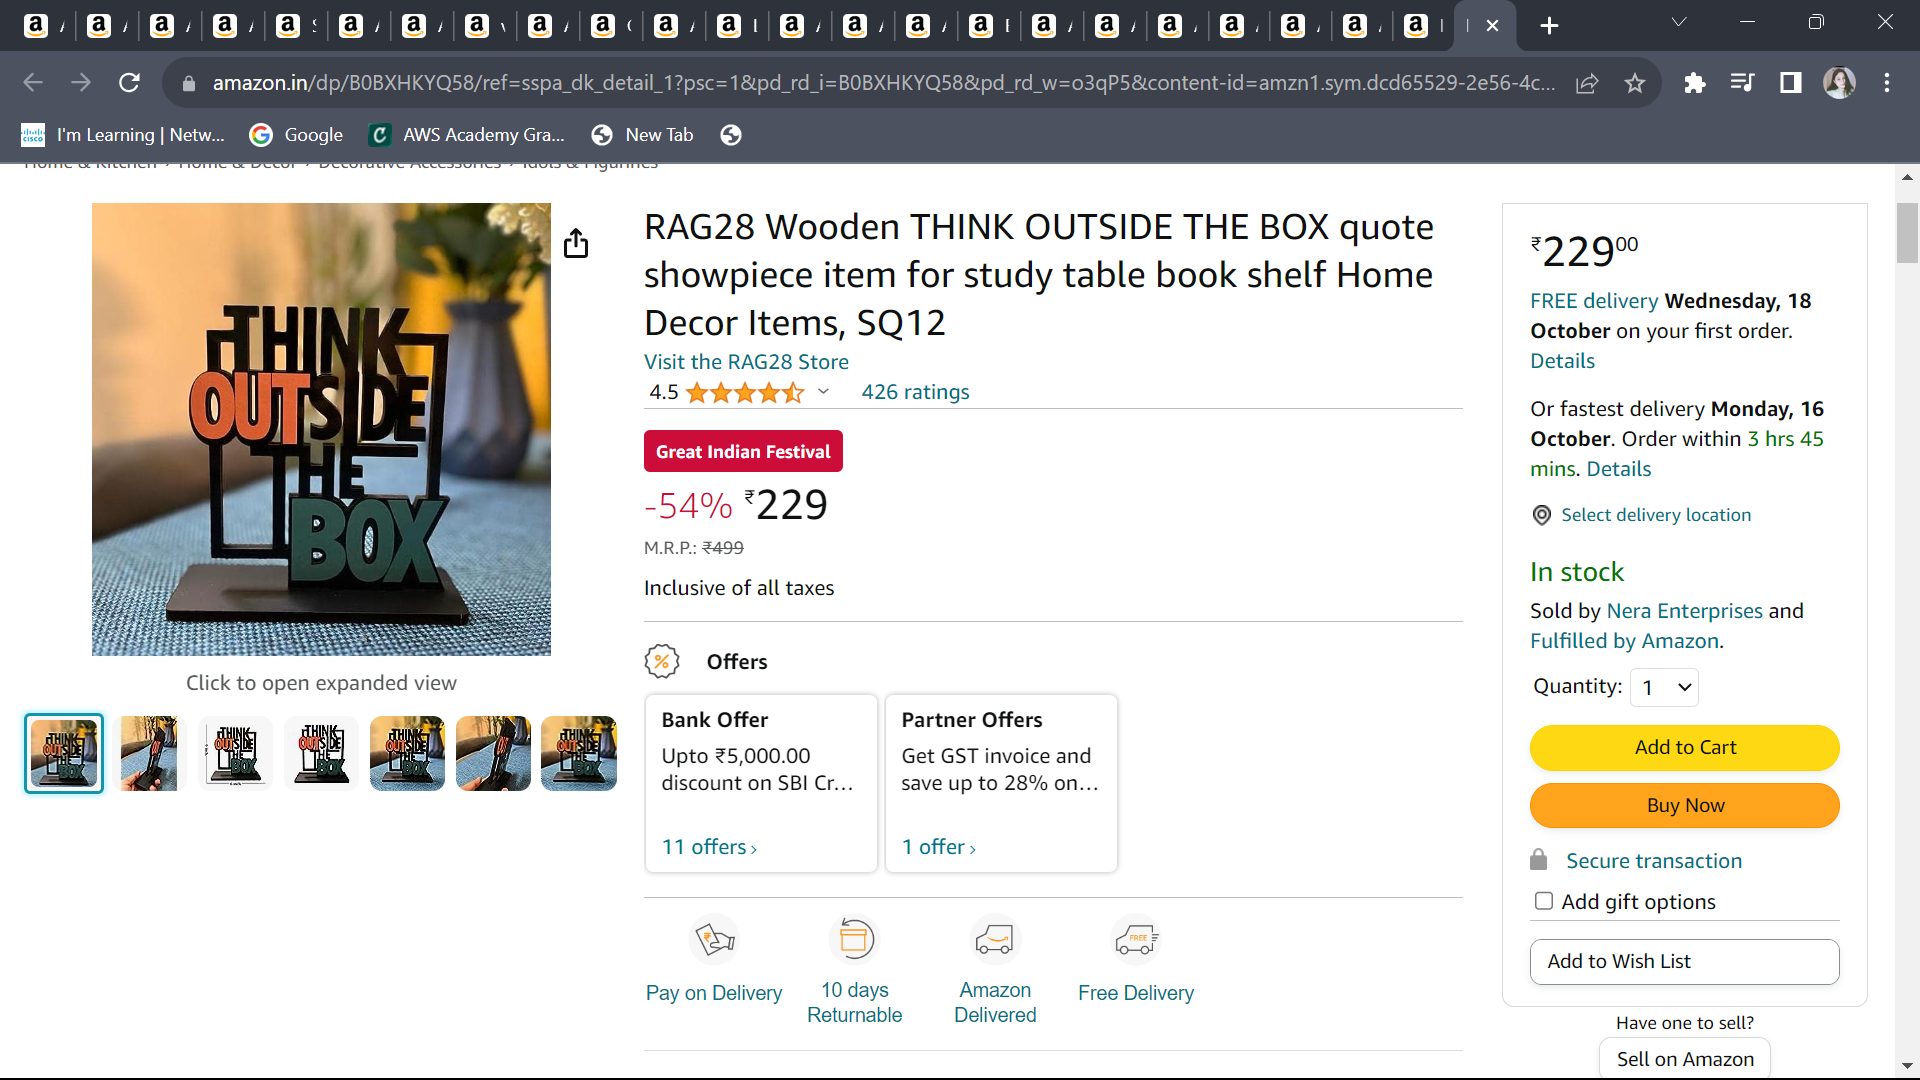Image: (59, 191, 628, 659), (30, 704, 636, 845)
Paragraph: (636, 574, 1218, 902), (640, 196, 1478, 338), (1528, 290, 1894, 484), (1505, 538, 1851, 657), (1481, 725, 1887, 824), (640, 472, 928, 597), (1451, 928, 1857, 1004), (633, 352, 1004, 418), (132, 663, 543, 708), (1448, 836, 1816, 884), (1514, 196, 1726, 269), (1495, 659, 1743, 720), (1516, 498, 1785, 526)
